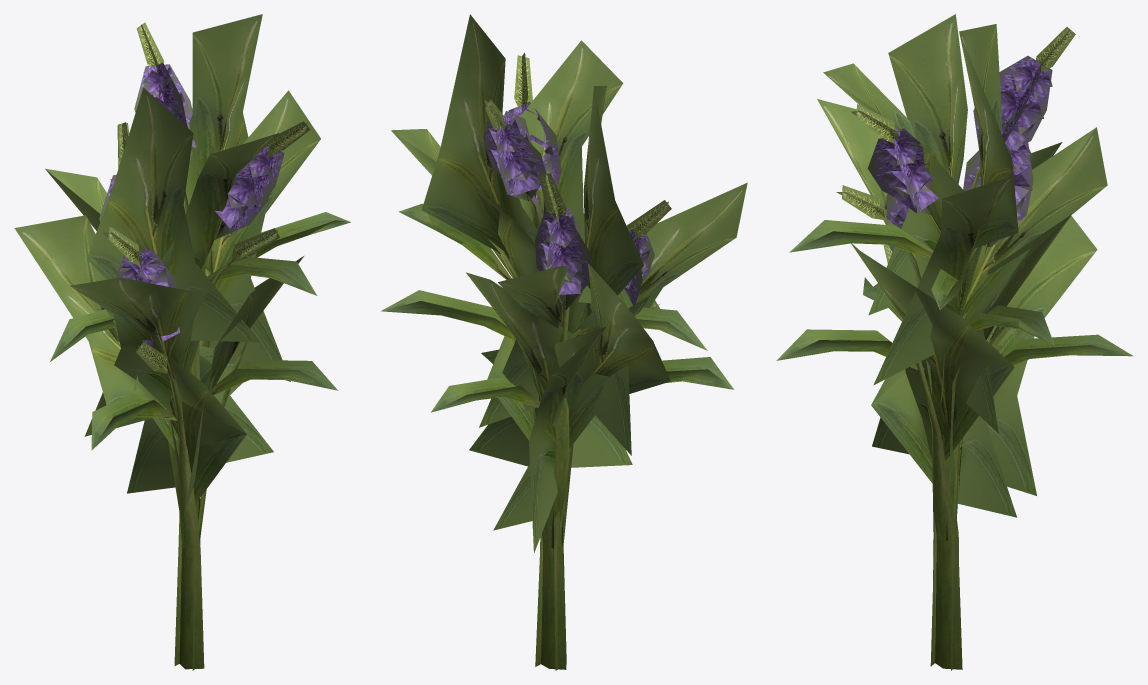
File: Flower02.FBX
The picture shows the model from 3 angles, left to right: view 1: azimuth 30°, elevation 25°; view 2: azimuth 150°, elevation 25°; view 3: azimuth 270°, elevation 25°; orthographic projection. The views are drawn at different scales.
Visible parts, largest first — view 1: LV_Spechia_Foliage_Herb01_PM_IJH; view 2: LV_Spechia_Foliage_Herb01_PM_IJH; view 3: LV_Spechia_Foliage_Herb01_PM_IJH.
Part boxes in pixels (x1,y1,x2,y2): LV_Spechia_Foliage_Herb01_PM_IJH: [14, 14, 350, 670]; LV_Spechia_Foliage_Herb01_PM_IJH: [381, 14, 747, 670]; LV_Spechia_Foliage_Herb01_PM_IJH: [776, 14, 1133, 670].
Bounding box in the file's own units: 21.64 × 42.14 × 20.3.
